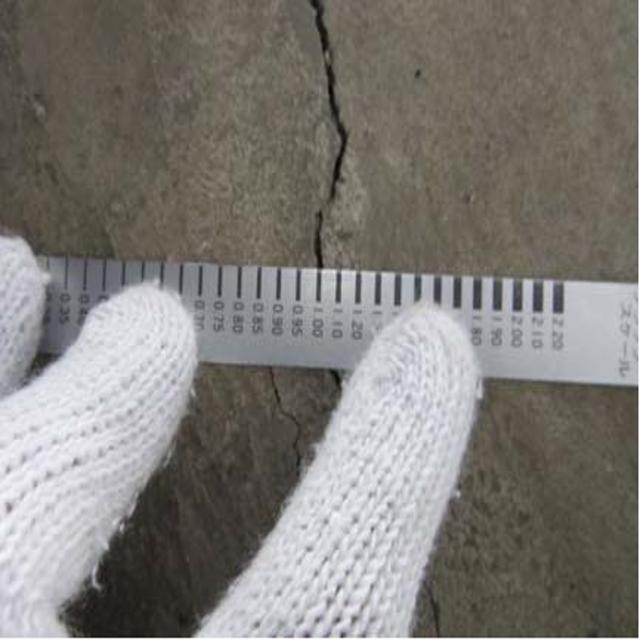crack: (291, 4, 363, 267), (259, 366, 350, 480), (413, 582, 471, 637)
